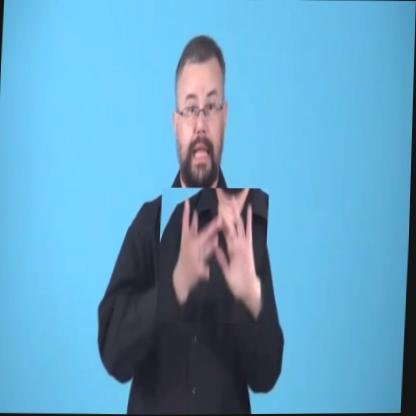Internet: (157, 186, 270, 324)
